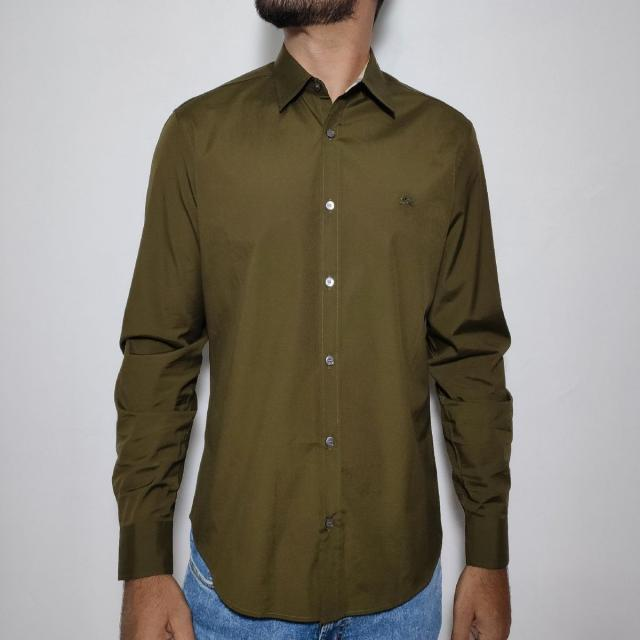long sleeve shirt: (108, 40, 515, 624)
trousers: (168, 528, 444, 640)
